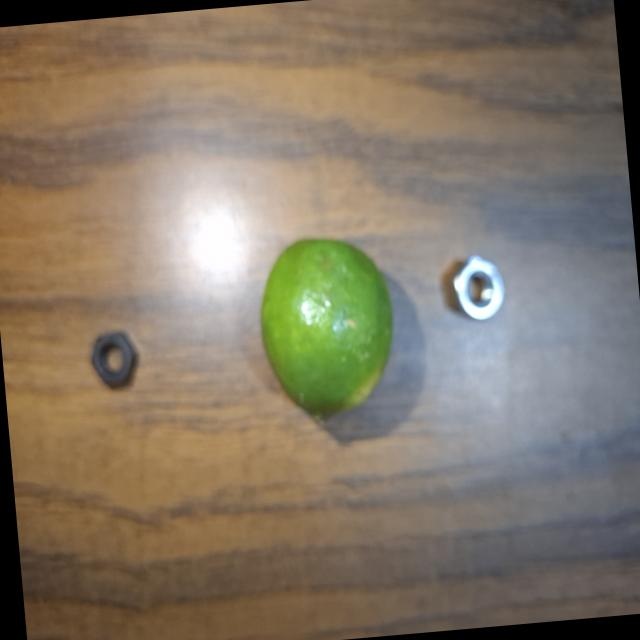limon: (244, 222, 411, 436)
milimetrico: (72, 311, 162, 409)
tuerca: (440, 239, 522, 331)
